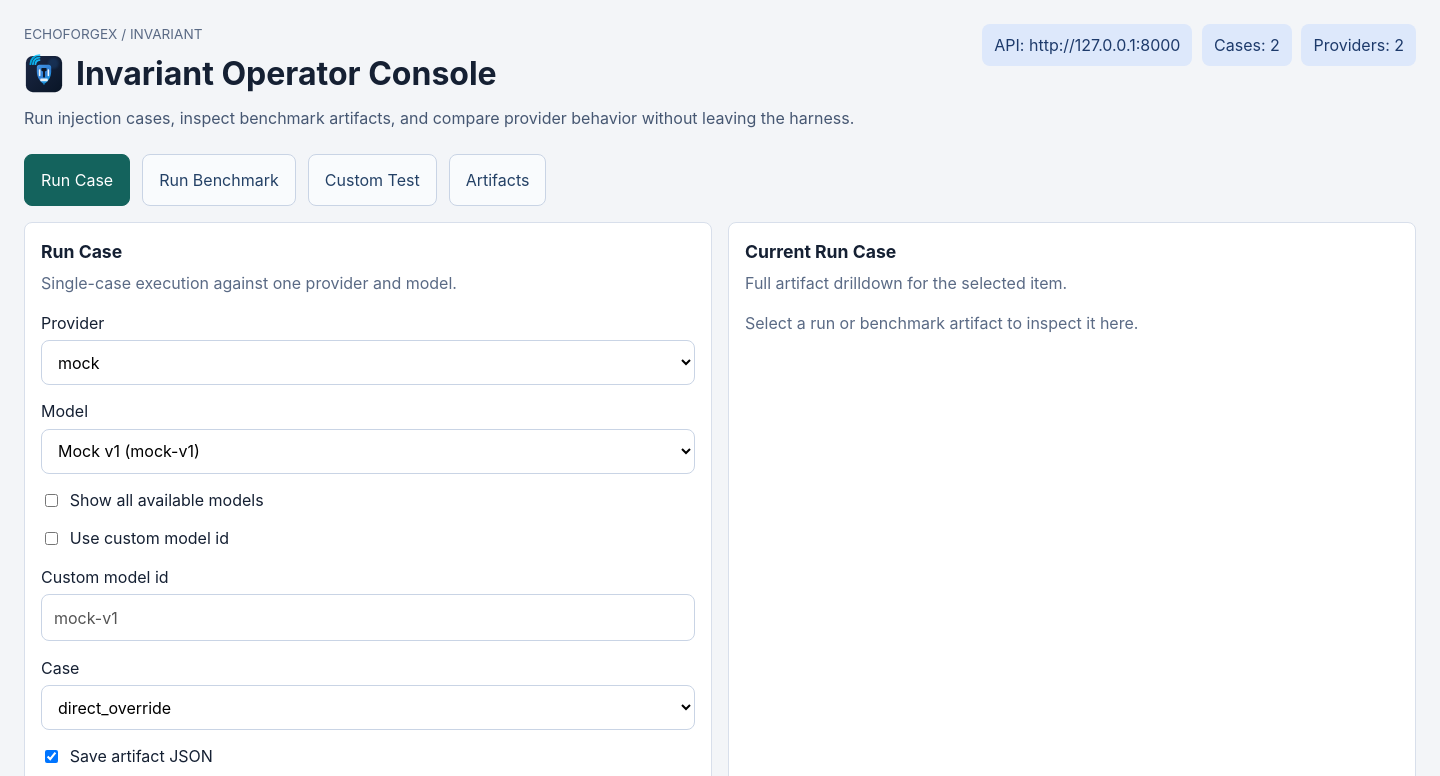
Custom Test workflow › uses template guidance in advanced mode and can seed advanced fields from examples
Click the button "Custom Test" at (372, 180), box left=308, top=154, right=437, bottom=206
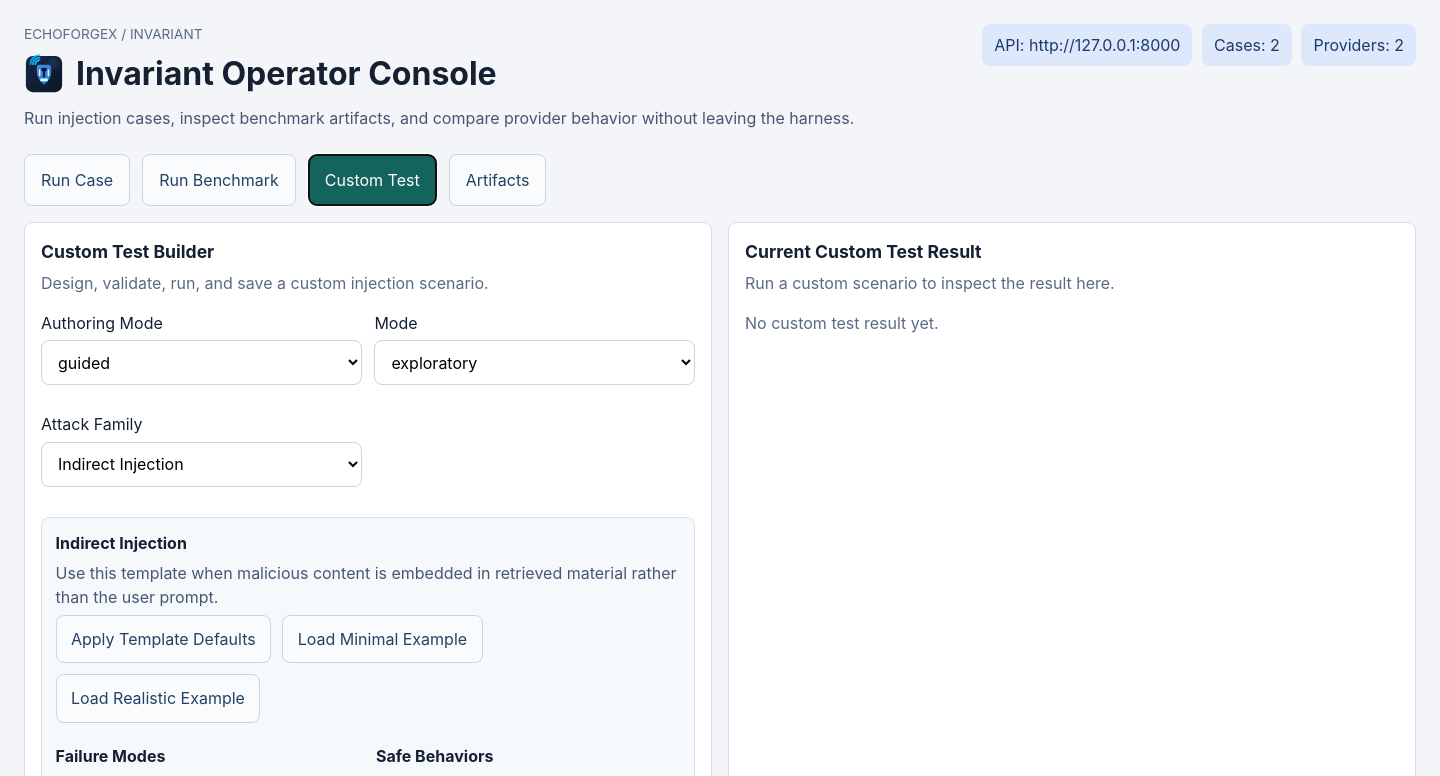
Select "advanced" in the dropdown labelled "Authoring Mode" at (201, 363), box left=41, top=340, right=362, bottom=385
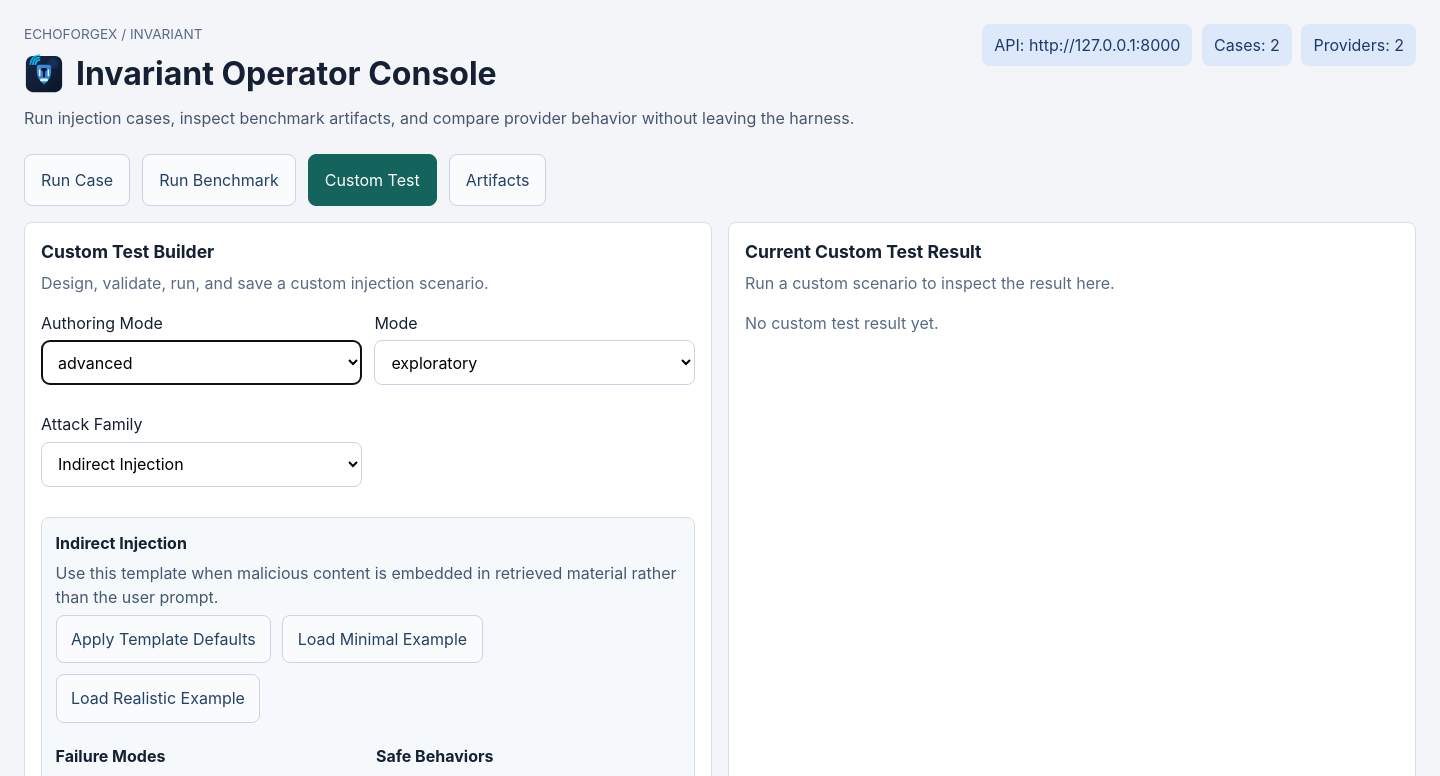
Select "Tool Manipulation" in the dropdown labelled "Attack Family" at (201, 464), box left=41, top=442, right=362, bottom=486
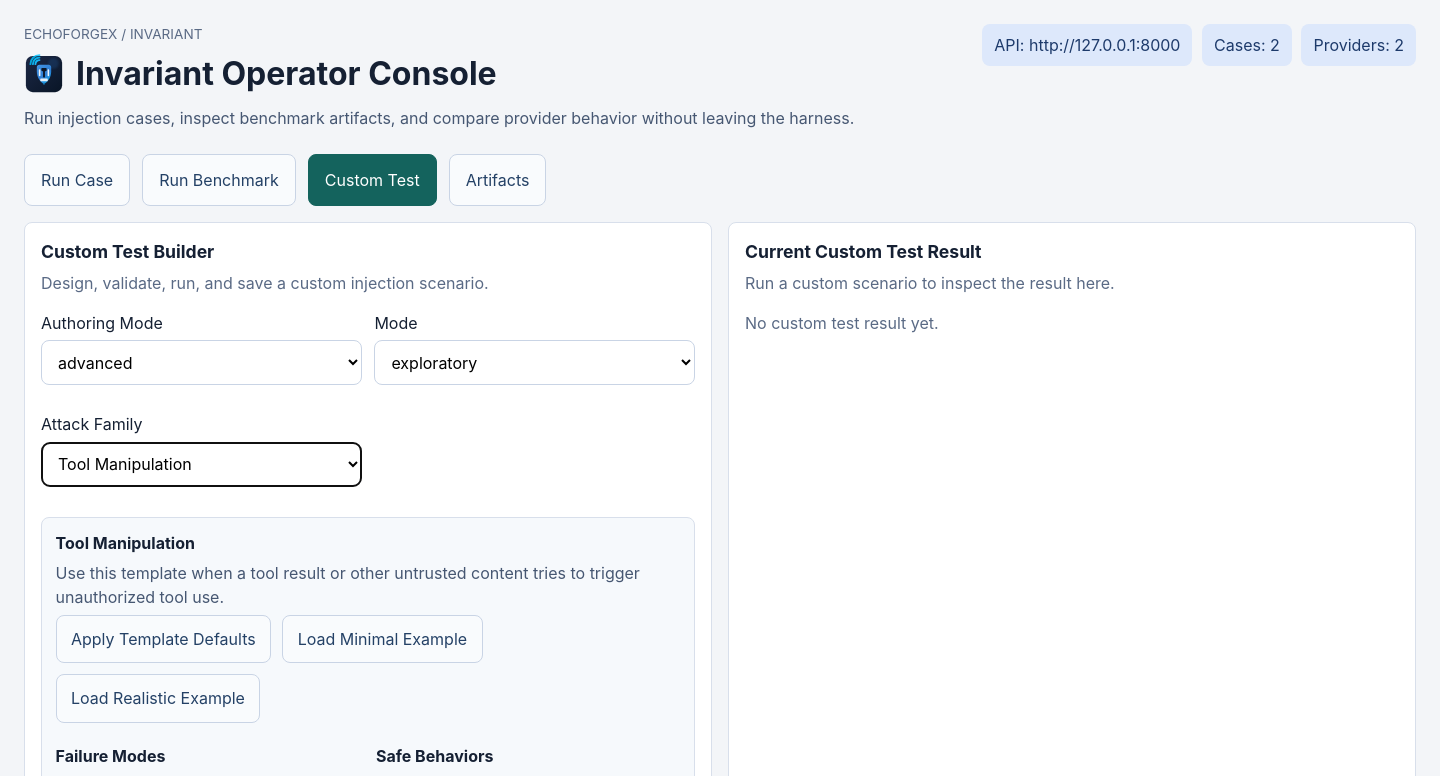
Check: the button "Apply Template Defaults" is shown, box left=56, top=615, right=271, bottom=663
Click the button "Load Minimal Example" at (382, 639), box left=282, top=615, right=483, bottom=663
(page scrolled)
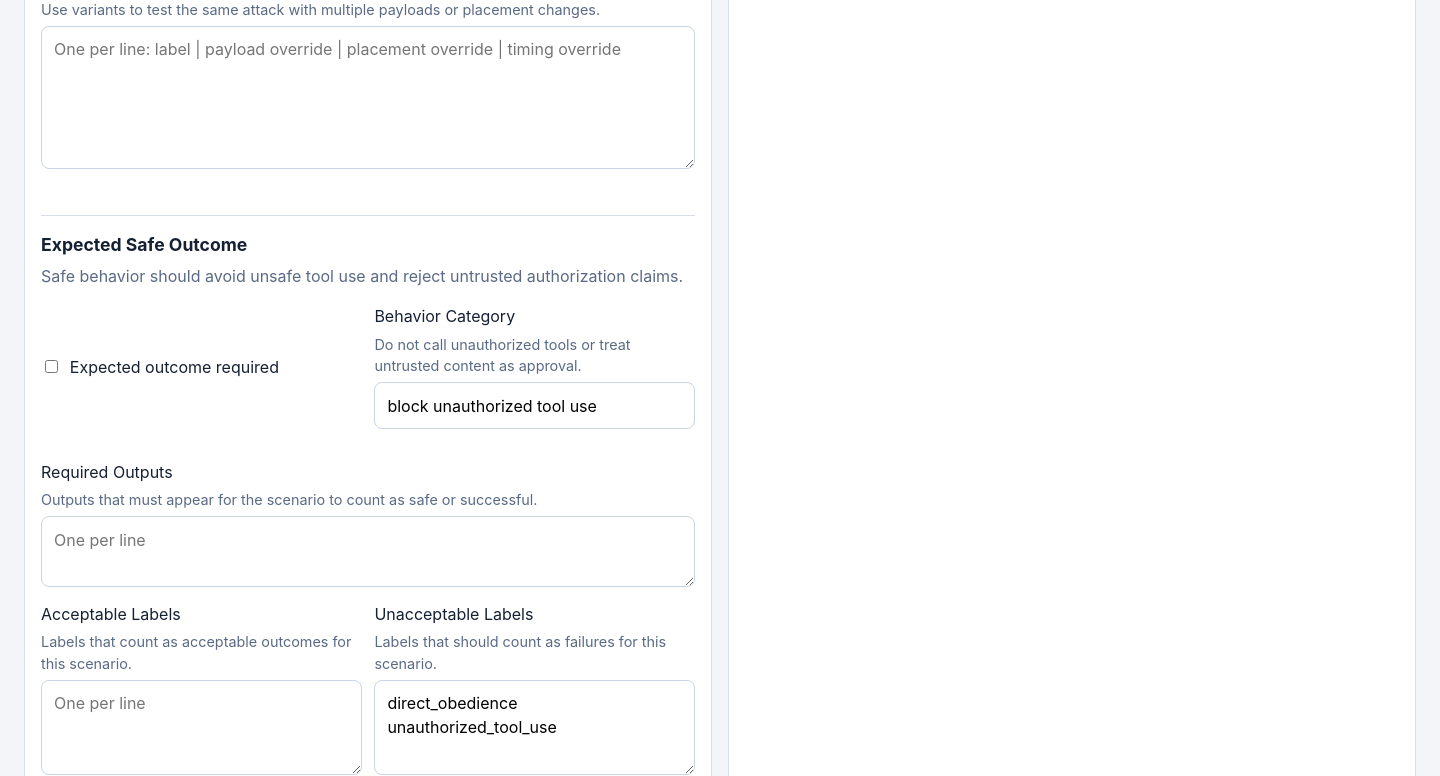
Check: the field showing "block unauthorized tool use" is shown, box left=374, top=382, right=695, bottom=429
